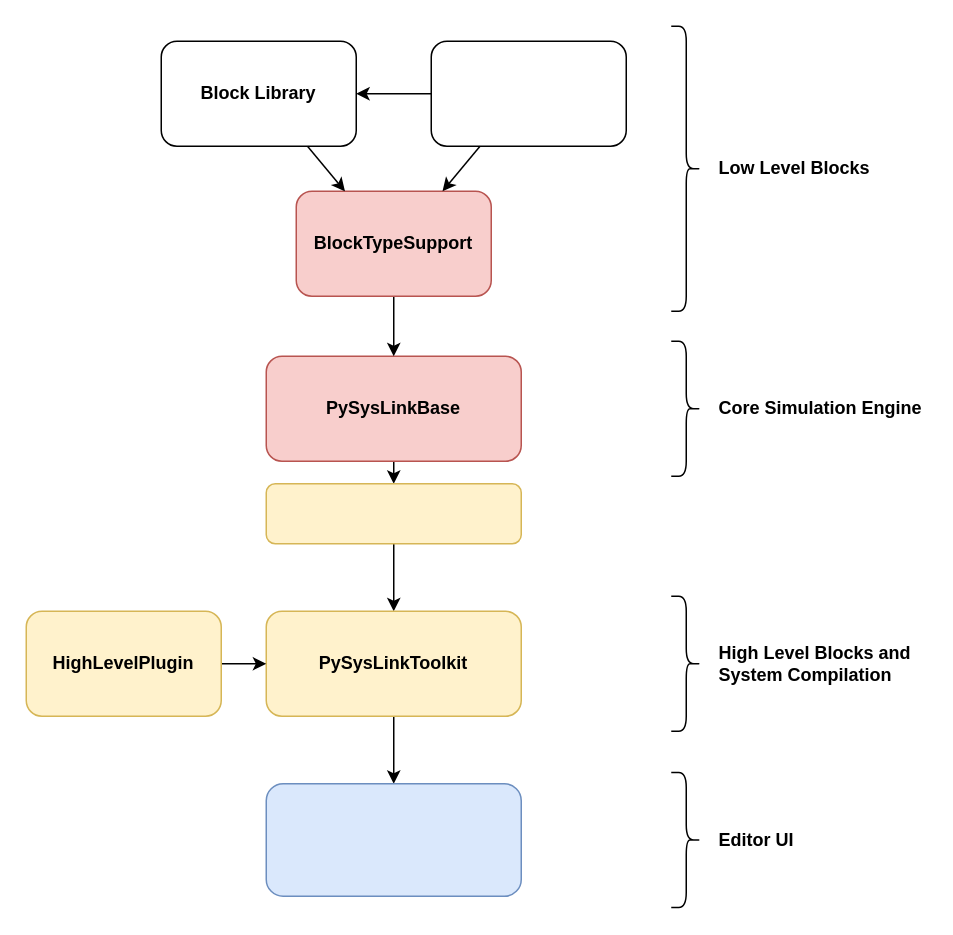
Some shapes in this 953 by 935 pixel diagram are drawn without their labels. The box of each missing label's shape, as (x1, y1, x2, y2) in pixels:
BlockType: (430, 40, 626, 146)
PySysLinkEditor: (265, 782, 521, 896)
Python Bindings: (265, 482, 521, 544)
